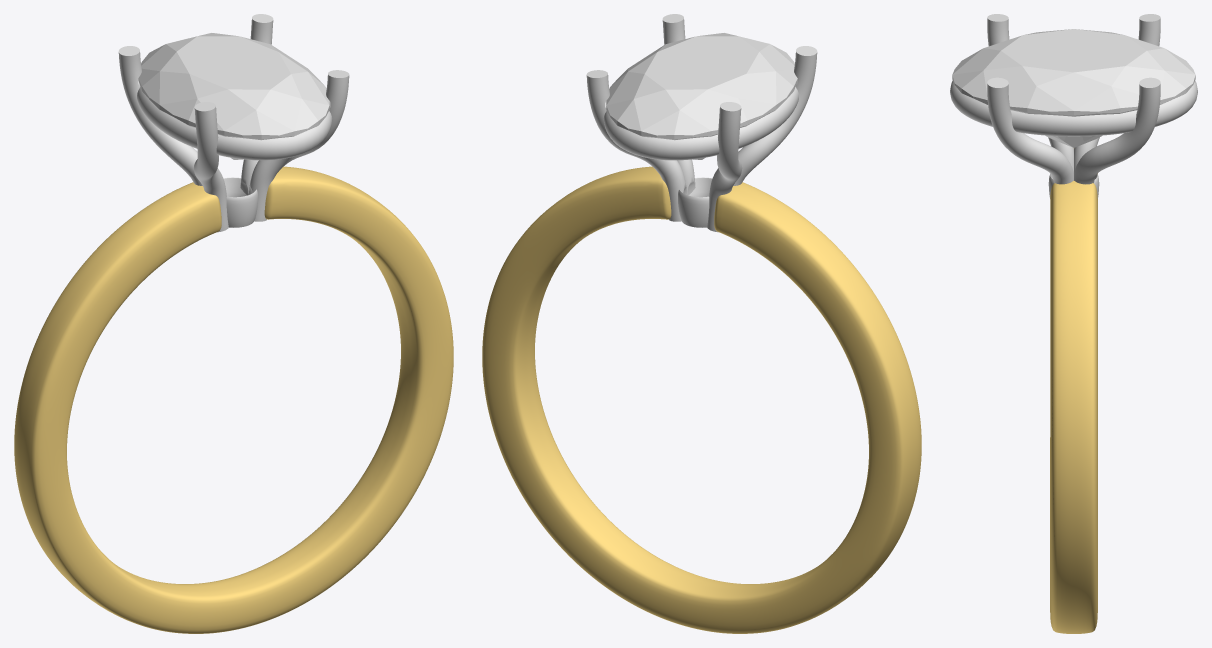
The model's file is DavidSPTYG.glb.
The picture shows the model from 3 angles, left to right: view 1: azimuth 30°, elevation 25°; view 2: azimuth 150°, elevation 25°; view 3: azimuth 270°, elevation 25°; orthographic projection.
Visible parts, largest first — view 1: YG BAND, DIA DAVID, PT HEAD; view 2: YG BAND, DIA DAVID, PT HEAD; view 3: YG BAND, DIA DAVID, PT HEAD.
Boxes of the visible parts, <box> form: YG BAND: <box>14,166,453,633</box>; DIA DAVID: <box>138,33,329,159</box>; PT HEAD: <box>118,14,349,232</box>; YG BAND: <box>482,166,921,633</box>; DIA DAVID: <box>606,33,797,159</box>; PT HEAD: <box>586,14,817,232</box>; YG BAND: <box>1050,173,1097,633</box>; DIA DAVID: <box>952,29,1195,147</box>; PT HEAD: <box>950,14,1197,198</box>.
Size of the model in its own units: 20.55 by 25.98 by 10.4.
